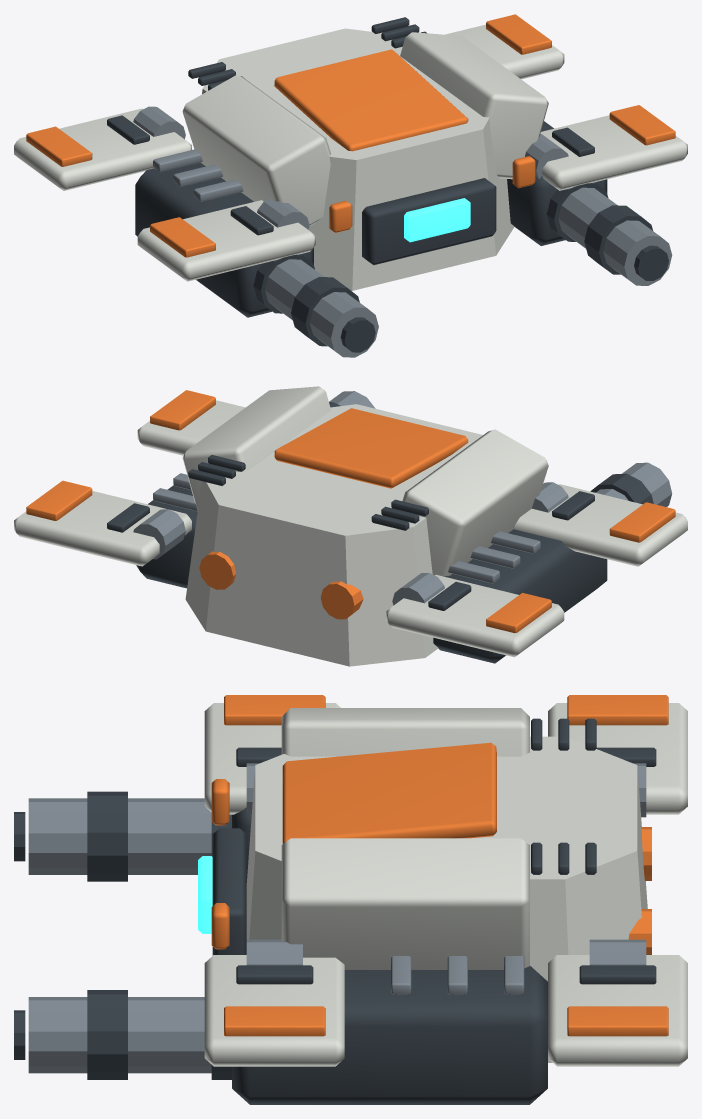
Rendered from VXDR_ATTACK_v003_DRONE.fbx.
3 renders of one model, top to bottom at view 1: azimuth 30°, elevation 25°; view 2: azimuth 150°, elevation 25°; view 3: azimuth 270°, elevation 25°, orthographic. The views are drawn at different scales.
Parts seen in each view (by area): view 1: Faceted sensor hull, Sloped cheek armor, Top identification, Sloped cheek armor.001, Foldable stabilizer, Sensor recess, Foldable stabilizer.001, Gun carrier, Foldable stabilizer.002, Cannon barrel.001, Cannon barrel, Gun carrier.001 (+23 smaller); view 2: Faceted sensor hull, Sloped cheek armor, Top identification, Sloped cheek armor.001, Gun carrier, Foldable stabilizer.001, Foldable stabilizer, Foldable stabilizer.003, Foldable stabilizer.002, Gun carrier.001, Stabilizer orange tip.003, Stabilizer orange tip (+17 smaller); view 3: Sloped cheek armor.001, Faceted sensor hull, Gun carrier.001, Top identification, Sloped cheek armor, Cannon barrel, Foldable stabilizer.003, Foldable stabilizer.002, Cannon barrel.001, Foldable stabilizer.001, Foldable stabilizer, Cannon stepped collar.001 (+18 smaller).
Part boxes in pixels (bbox=[...]): Faceted sensor hull: bbox=[202, 28, 514, 290]; Sloped cheek armor: bbox=[182, 75, 330, 225]; Top identification: bbox=[274, 49, 468, 151]; Sloped cheek armor.001: bbox=[400, 32, 548, 179]; Foldable stabilizer: bbox=[137, 200, 315, 281]; Sensor recess: bbox=[362, 178, 496, 265]; Foldable stabilizer.001: bbox=[14, 108, 191, 190]; Gun carrier: bbox=[135, 162, 313, 317]; Foldable stabilizer.002: bbox=[540, 115, 687, 190]; Cannon barrel.001: bbox=[558, 187, 672, 285]; Cannon barrel: bbox=[265, 259, 378, 357]; Gun carrier.001: bbox=[507, 121, 607, 245]; Faceted sensor hull: bbox=[185, 404, 482, 666]; Sloped cheek armor: bbox=[402, 429, 548, 576]; Top identification: bbox=[274, 408, 468, 488]; Sloped cheek armor.001: bbox=[182, 386, 330, 510]; Gun carrier: bbox=[433, 529, 607, 663]; Foldable stabilizer.001: bbox=[386, 574, 564, 657]; Foldable stabilizer: bbox=[514, 484, 687, 566]; Foldable stabilizer.003: bbox=[14, 491, 191, 566]; Foldable stabilizer.002: bbox=[137, 400, 245, 455]; Gun carrier.001: bbox=[136, 485, 197, 588]; Stabilizer orange tip.003: bbox=[26, 480, 92, 520]; Stabilizer orange tip: bbox=[609, 502, 675, 542]; Sloped cheek armor.001: bbox=[281, 838, 529, 969]; Faceted sensor hull: bbox=[246, 736, 647, 1062]; Gun carrier.001: bbox=[232, 966, 547, 1104]; Top identification: bbox=[282, 742, 496, 843]; Sloped cheek armor: bbox=[281, 708, 529, 756]; Cannon barrel: bbox=[28, 798, 211, 874]; Foldable stabilizer.003: bbox=[548, 955, 687, 1066]; Foldable stabilizer.002: bbox=[204, 955, 344, 1066]; Cannon barrel.001: bbox=[28, 997, 211, 1073]; Foldable stabilizer.001: bbox=[548, 703, 687, 814]; Foldable stabilizer: bbox=[204, 703, 340, 814]; Cannon stepped collar.001: bbox=[87, 791, 127, 881].
Bounding box in the file's own units: 35.9 × 10.17 × 29.85.
